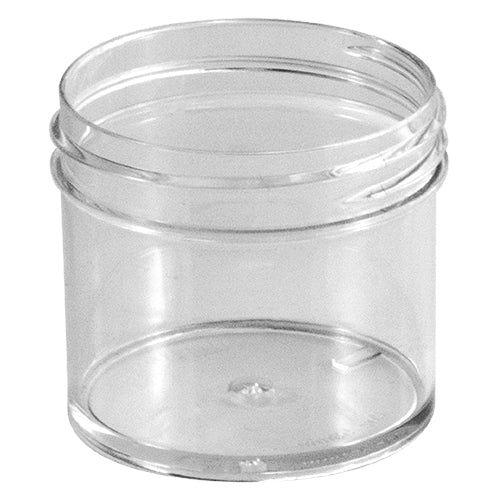PS: (53, 16, 447, 484)
